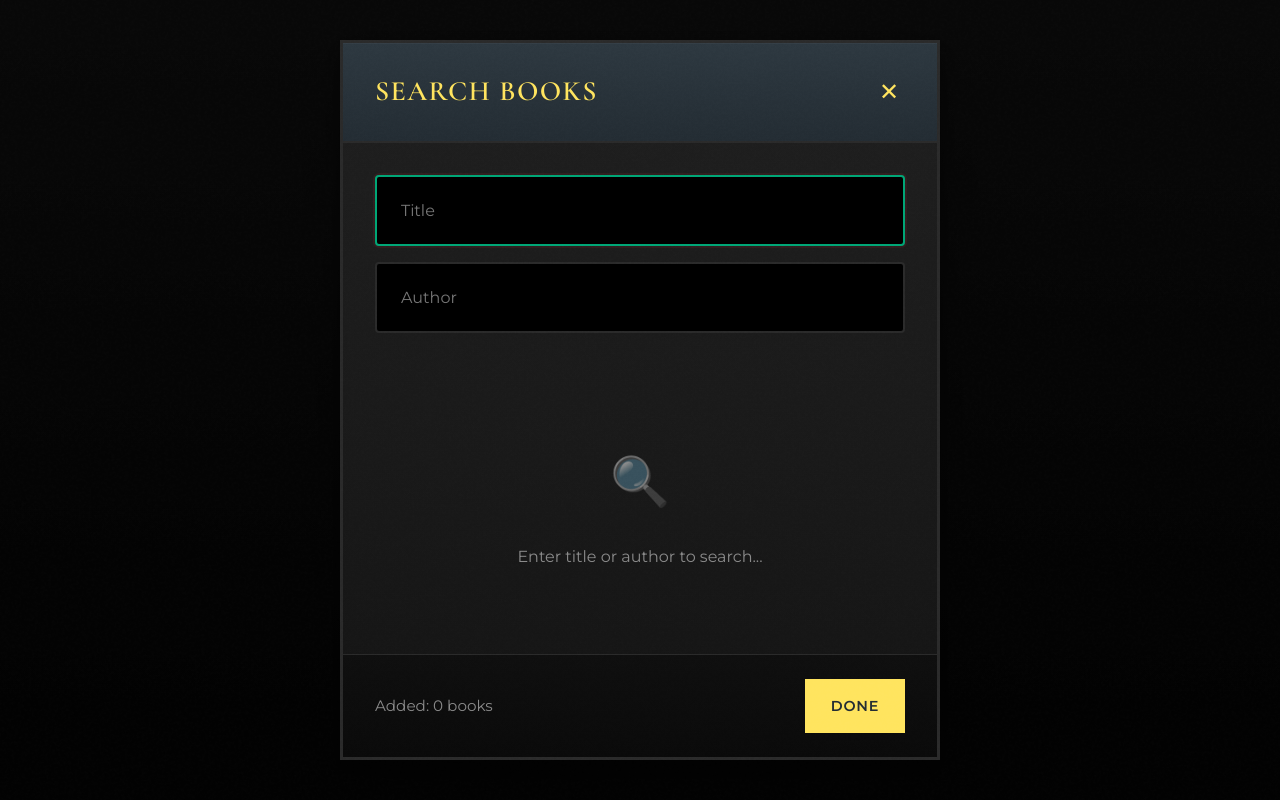
Scenario: BookSearchModal › searches through the backend client after the debounce window
Step 1. Type "Dune" into the field with placeholder "Title" → (640, 210), box [375,175,905,246]
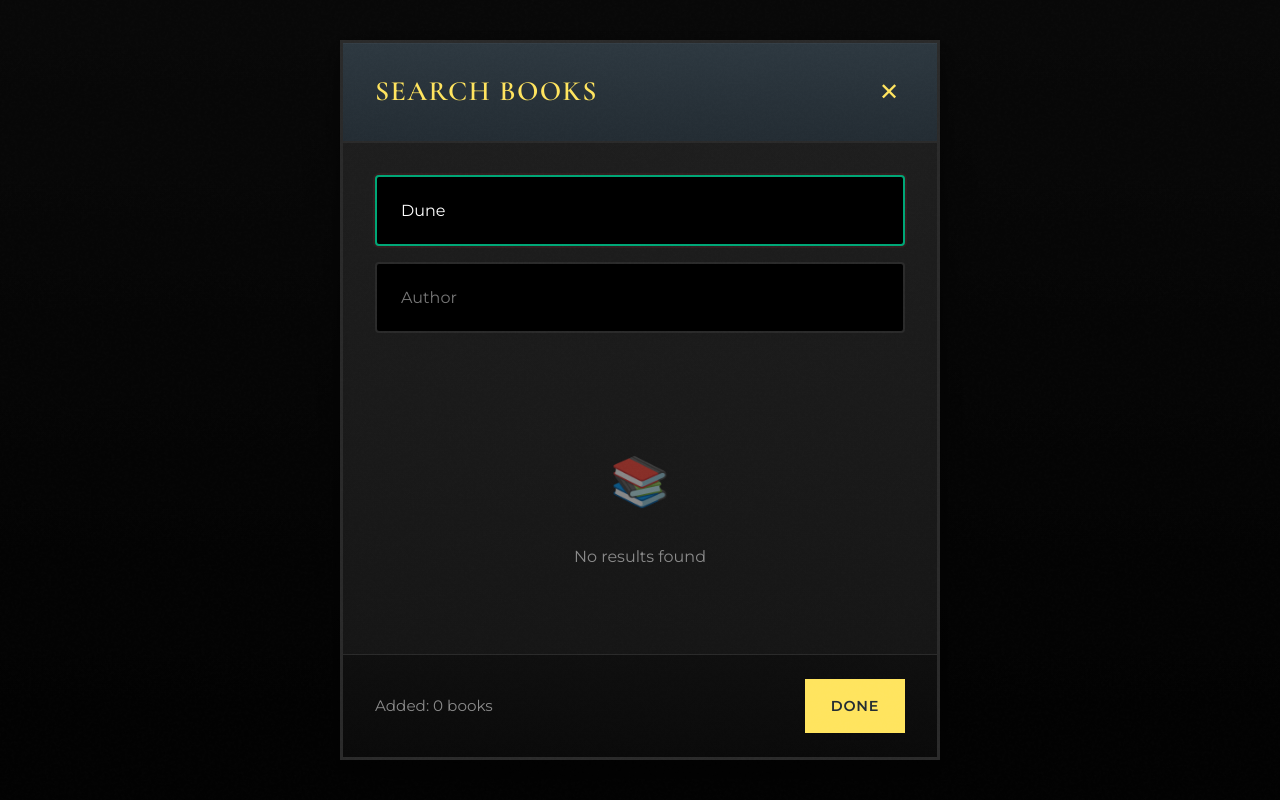
Step 2. Type "Frank Herbert" into the field with placeholder "Author" → (640, 297), box [375,262,905,333]
Wait 500 ms
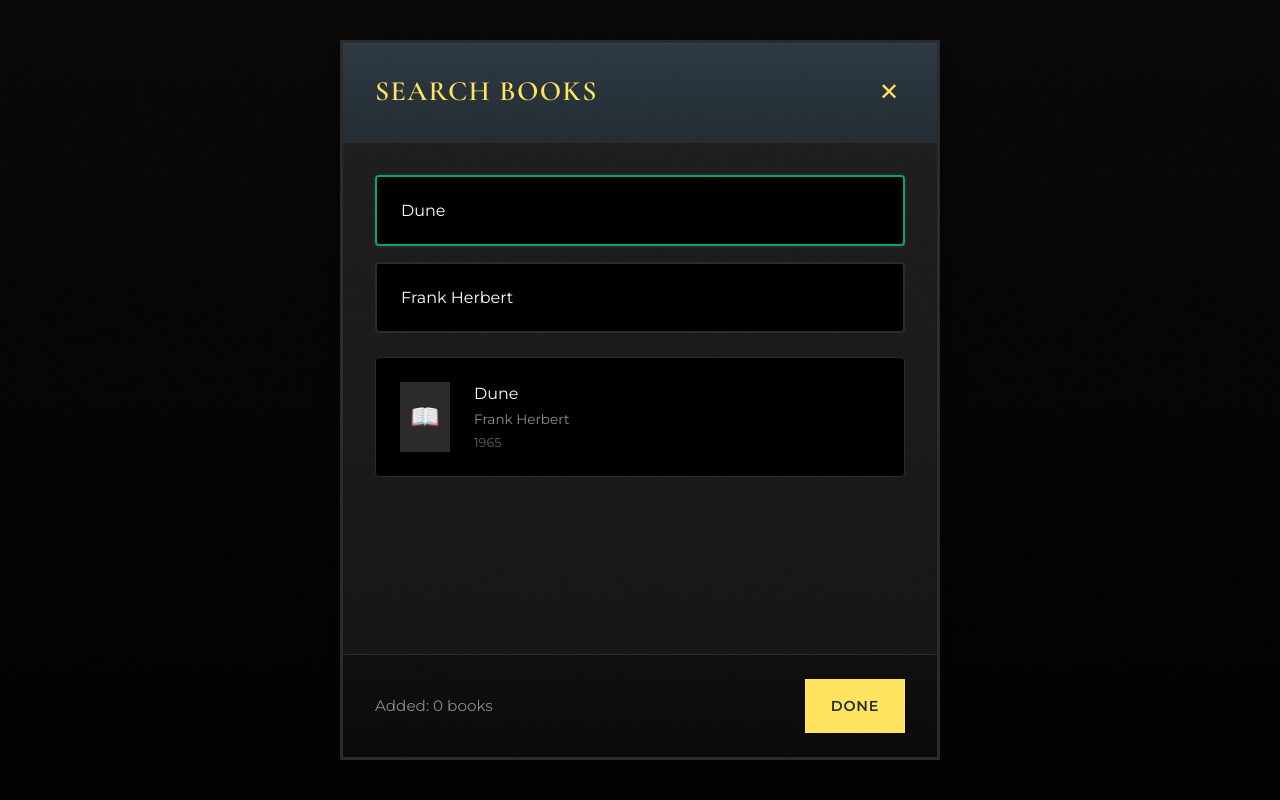
Check: the text "Dune" is shown, box [474,384,518,403]
Check: the text "Frank Herbert" is shown, box [474,411,570,427]
